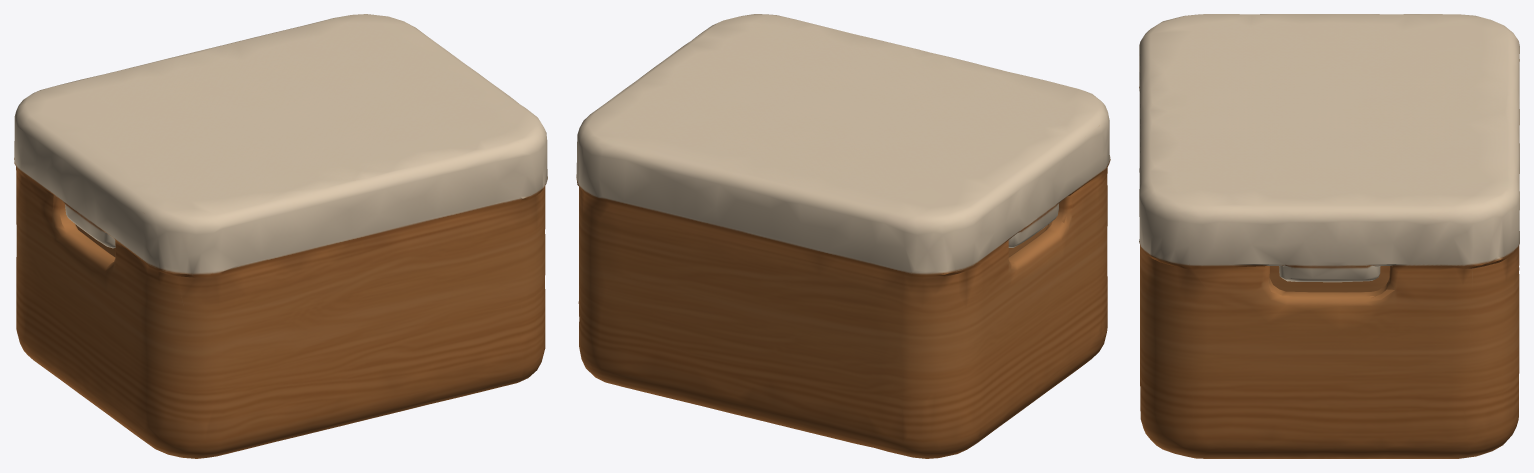
File: StorageBox.glb
3 renders of one model, left to right at view 1: azimuth 30°, elevation 25°; view 2: azimuth 150°, elevation 25°; view 3: azimuth 270°, elevation 25°, orthographic. The views are drawn at different scales.
Parts seen in each view (by area): view 1: geometry_0; view 2: geometry_0; view 3: geometry_0.
Boxes of the visible parts, box(x1,y1,x2,y2) form: geometry_0: box(14, 14, 547, 458); geometry_0: box(576, 14, 1110, 458); geometry_0: box(1139, 14, 1519, 458).
Bounding box in the file's own units: 0.25 × 0.15 × 0.2.
1 material, 1 textured.
